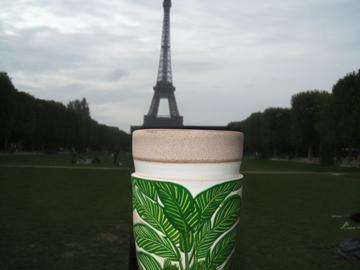pottedplant: (130, 126, 244, 270)
